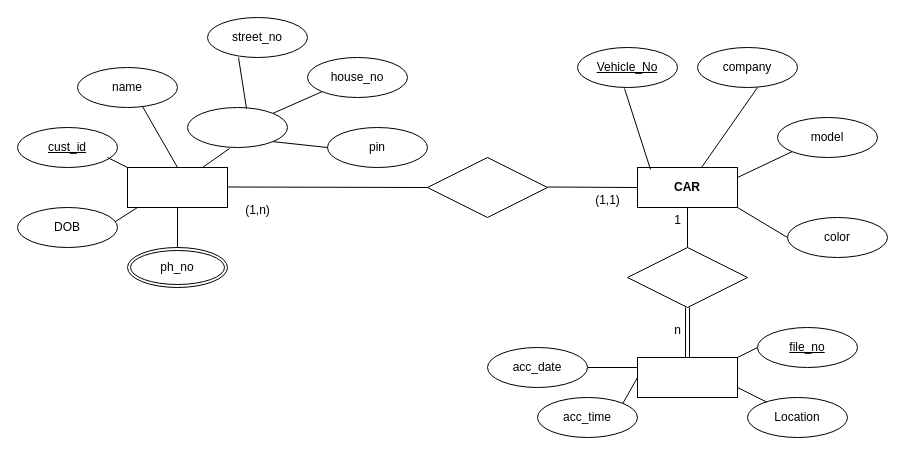
The diagram is 905 pixels wide and 455 high, and some of its shapes have lost their labels. The shapes that lost their labels are listed below. From the top down, each one's centre as x and y in pixels, then its label:
the point at 237,127: Address
the point at 177,187: Customer
the point at 487,187: Owns
the point at 687,277: Associated With
the point at 687,377: Accident
